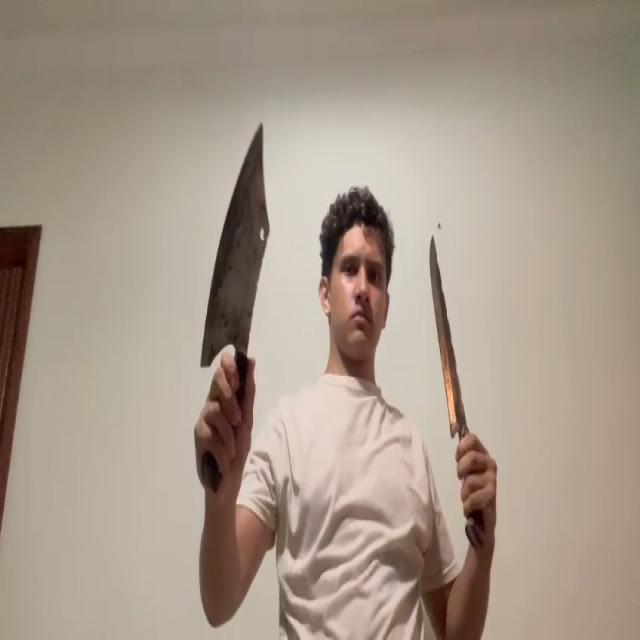knife: (200, 122, 271, 365), (429, 236, 467, 435)
